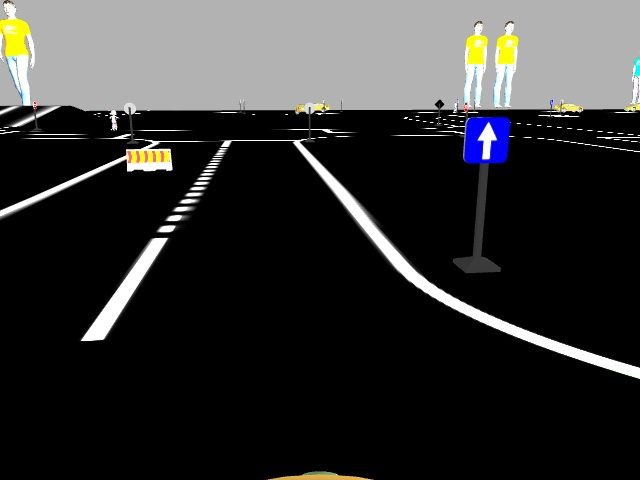ClosedRoadStand: (126, 149, 172, 170)
OneWay: (465, 119, 506, 161)
